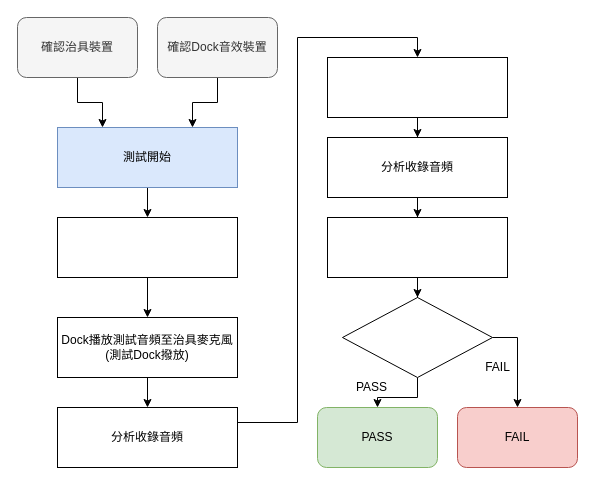
Some shapes in this 595 by 485 pixel diagram are drawn without their labels. Each missing label, with the centre of its shape:
"判斷播放及錄音音量是否在範圍內" goes at point (417, 247).
"判斷此次測試結果" goes at point (417, 337).
"治具播放測試音頻至Dock麥克風 (測試Dock麥克風)" goes at point (417, 87).
"調整音效裝置音量" goes at point (147, 247).
